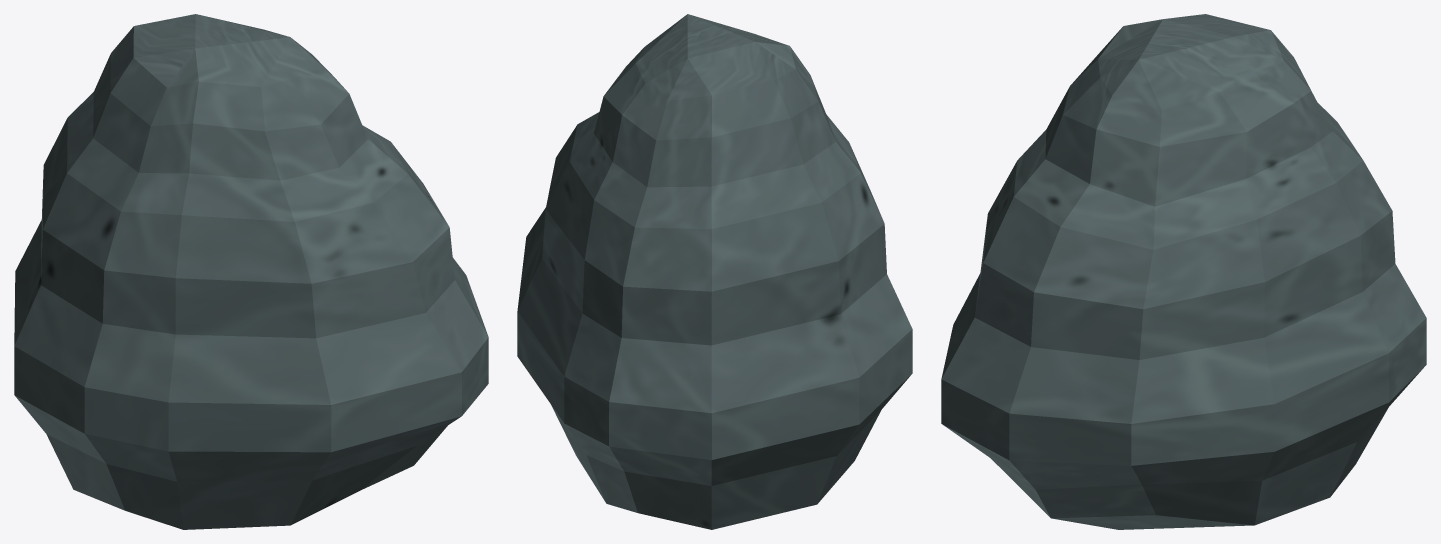
The model's file is rockCritterEgg.fbx.
3 renders of one model, left to right at view 1: azimuth 30°, elevation 25°; view 2: azimuth 150°, elevation 25°; view 3: azimuth 270°, elevation 25°, orthographic. The views are drawn at different scales.
Visible parts, largest first — view 1: RockCritterEgg; view 2: RockCritterEgg; view 3: RockCritterEgg.
Boxes of the visible parts, x1,y1,x2,y2 form: RockCritterEgg: (14, 14, 488, 529); RockCritterEgg: (517, 14, 912, 529); RockCritterEgg: (941, 14, 1426, 529).
Size of the model in its own units: 8.18 by 8.91 by 8.53.
